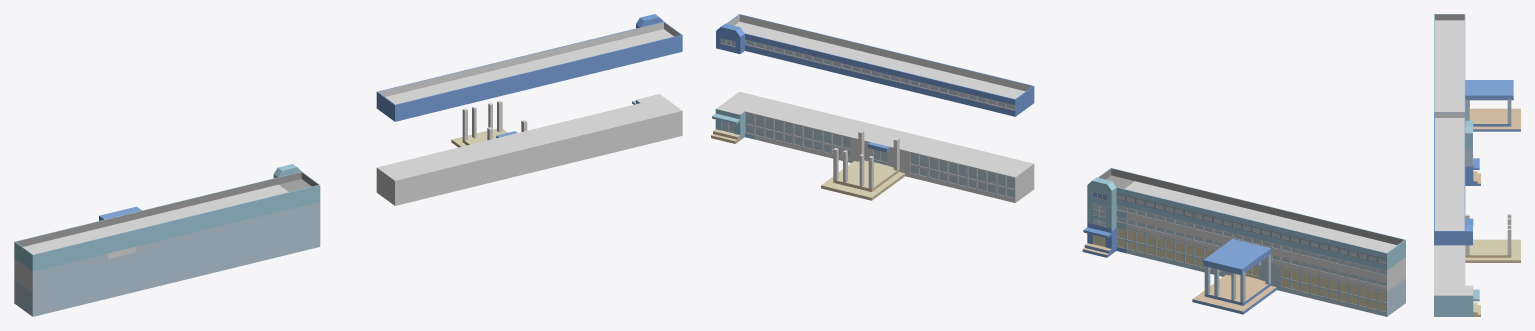
File: wlstlfrhks.fbx
The picture shows the model from 3 angles, left to right: view 1: azimuth 30°, elevation 25°; view 2: azimuth 150°, elevation 25°; view 3: azimuth 270°, elevation 25°; orthographic projection. The views are drawn at different scales.
Visible parts, largest first — view 1: Cube, ground, rooftop; view 2: Cube, ground, rooftop; view 3: Cube, rooftop, ground.
Boxes of the visible parts, bbox=[...] form: Cube: bbox=[14, 164, 320, 316]; ground: bbox=[376, 94, 682, 205]; rooftop: bbox=[376, 14, 682, 121]; Cube: bbox=[1082, 168, 1405, 316]; ground: bbox=[711, 91, 1034, 202]; rooftop: bbox=[716, 14, 1034, 116]; Cube: bbox=[1434, 14, 1520, 185]; rooftop: bbox=[1434, 112, 1473, 245]; ground: bbox=[1434, 214, 1520, 316].
Size of the model in its own units: 8129 by 1539 by 1106.
